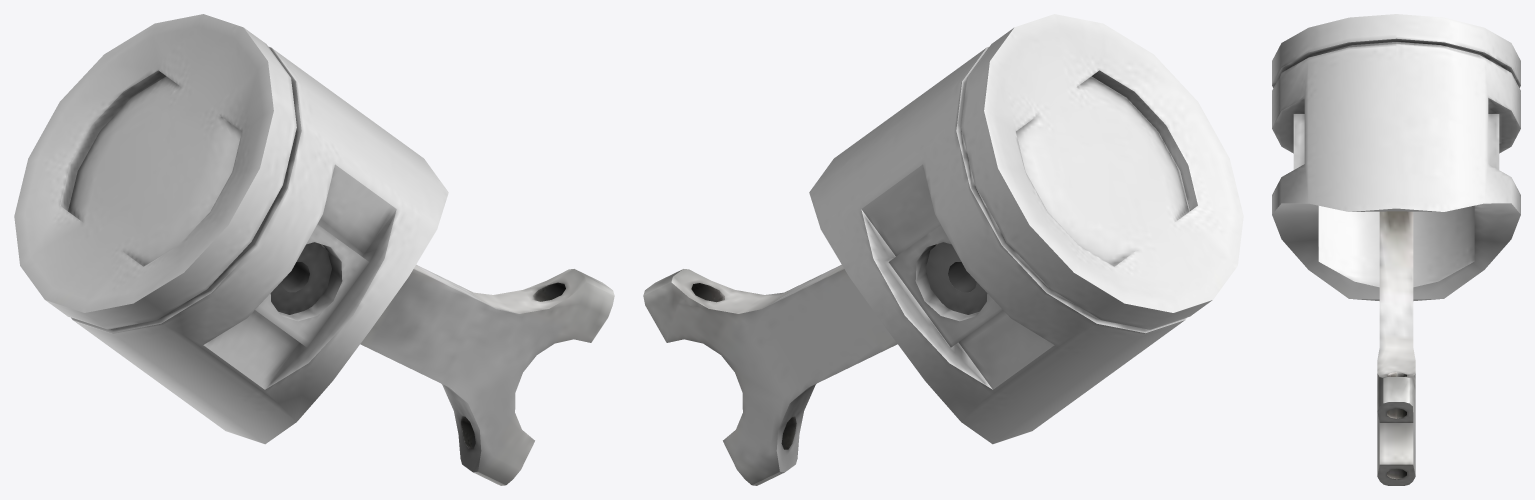
Rendered from piston.glb.
3 renders of one model, left to right at view 1: azimuth 30°, elevation 25°; view 2: azimuth 150°, elevation 25°; view 3: azimuth 270°, elevation 25°, orthographic. The views are drawn at different scales.
Parts seen in each view (by area): view 1: piston006_lambert2_0; view 2: piston006_lambert2_0; view 3: piston006_lambert2_0.
Boxes of the visible parts, bbox=[...] form: piston006_lambert2_0: bbox=[14, 14, 614, 485]; piston006_lambert2_0: bbox=[643, 14, 1243, 485]; piston006_lambert2_0: bbox=[1272, 14, 1520, 485].
Size of the model in its own units: 49.76 by 43.62 by 25.82.
1 material, 1 textured.
